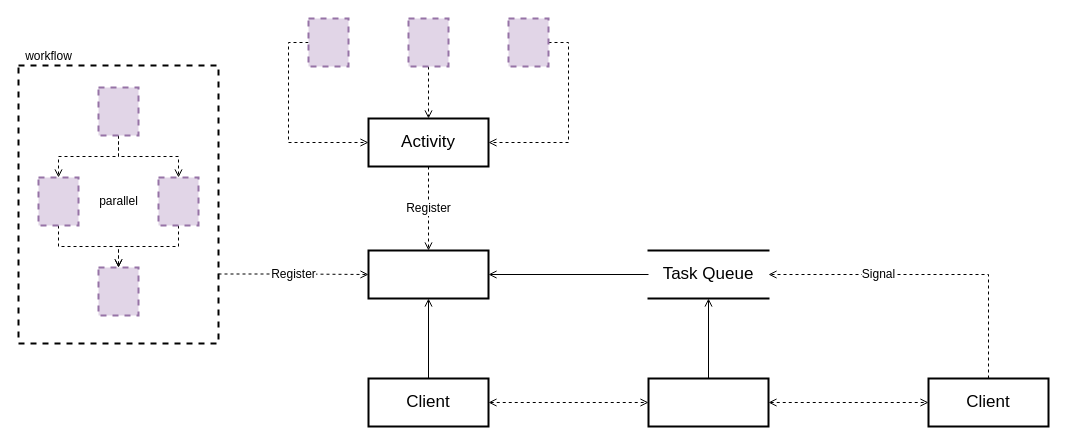
This 1066x444 diagram has some shape labels left out. Here are the shapes that lost their labels. From the top down, the centre of each, then its label:
point (428, 274): Worker
point (708, 402): Server
